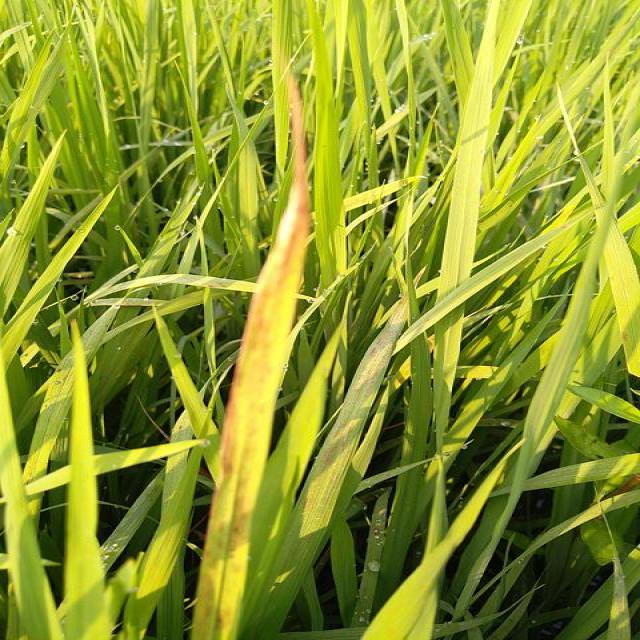Leaf Blight: (191, 70, 311, 639), (319, 298, 408, 473)
